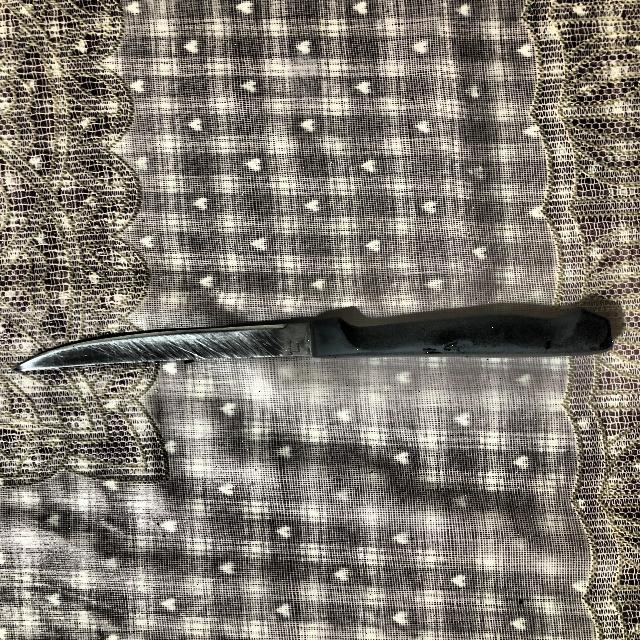knife: (14, 308, 616, 376)
